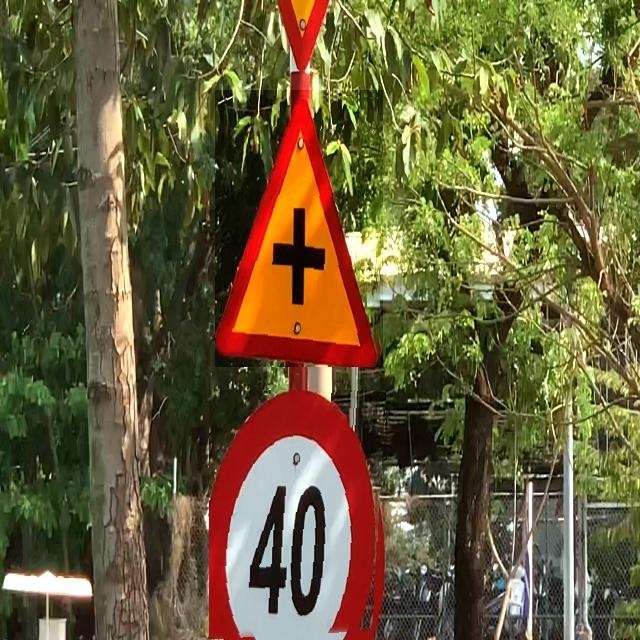bien_nguy_hiem: (215, 90, 383, 367), (209, 390, 387, 640)
